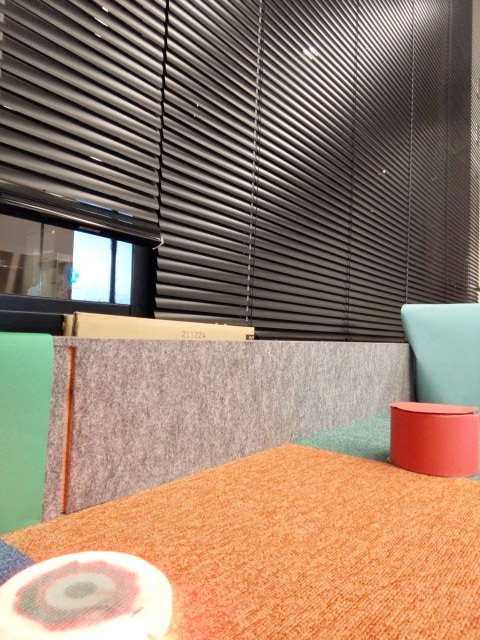r: (1, 546, 175, 640)
